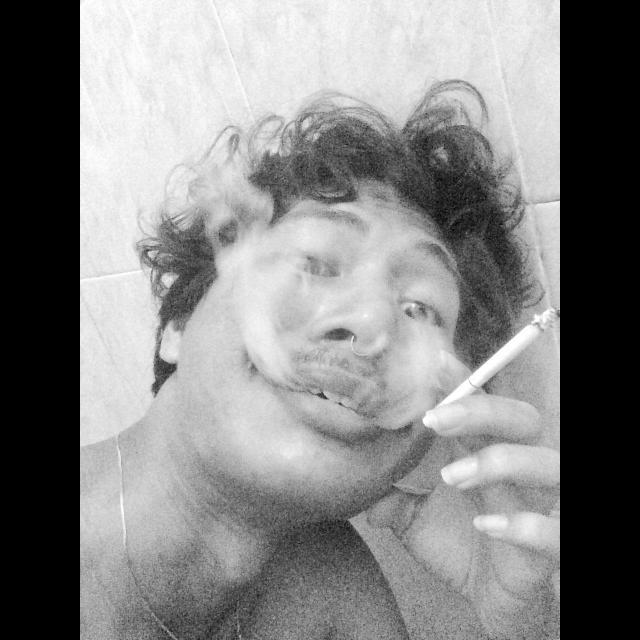rokok: (428, 310, 560, 432)
